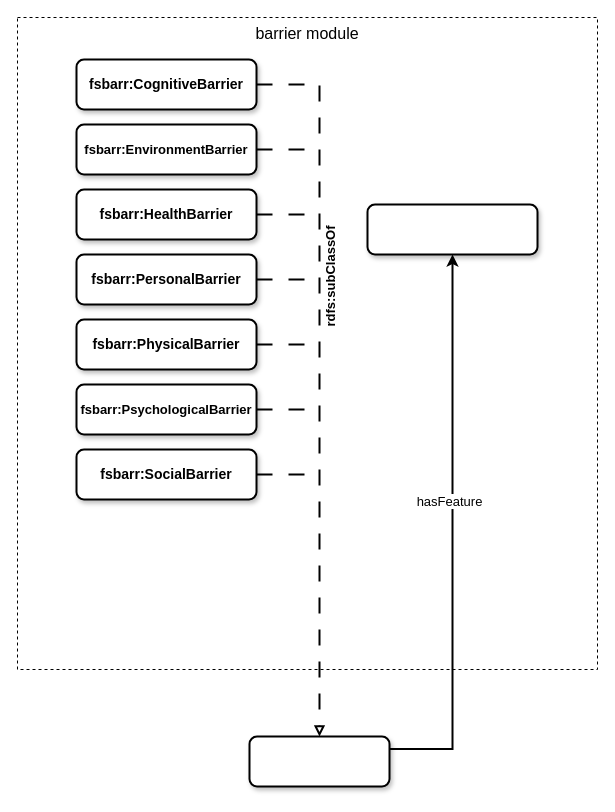
This 615x812 diagram has some shape labels left out. Here are the shapes that lost their labels. From the top down, the centre of each, then its label:
At pixel 453 230: "fsbar:FeatureOfInterest".
At pixel 320 762: "fscore:Barrier".
